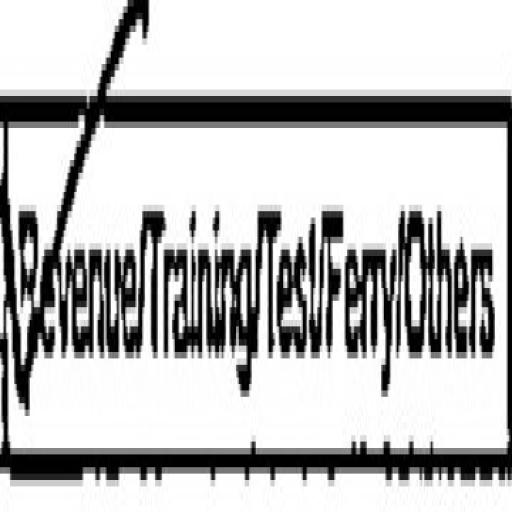check: (0, 0, 141, 506)
